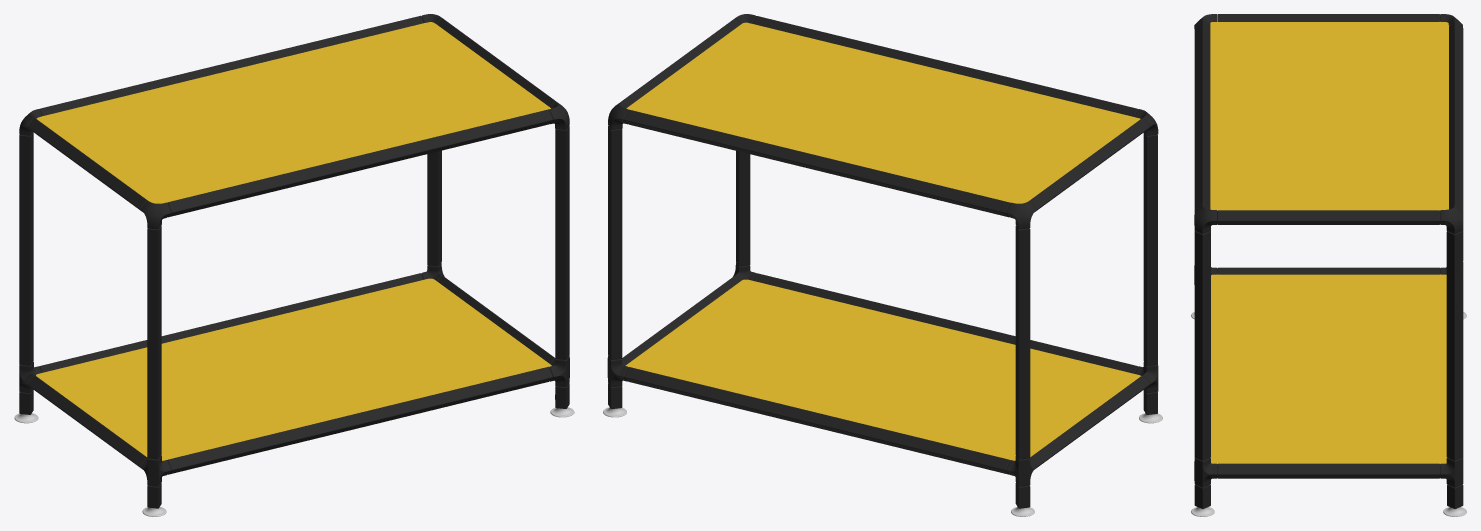
3 renders of one model, left to right at view 1: azimuth 30°, elevation 25°; view 2: azimuth 150°, elevation 25°; view 3: azimuth 270°, elevation 25°, orthographic.
Parts seen in each view (by area): view 1: 729x374x420; view 2: 729x374x420; view 3: 729x374x420.
Boxes of the visible parts, x1,y1,x2,y2 form: 729x374x420: (14,14,574,516); 729x374x420: (603,14,1162,516); 729x374x420: (1191,14,1466,516).
Bounding box in the file's own units: 0.8189 × 0.5593 × 0.4632.
